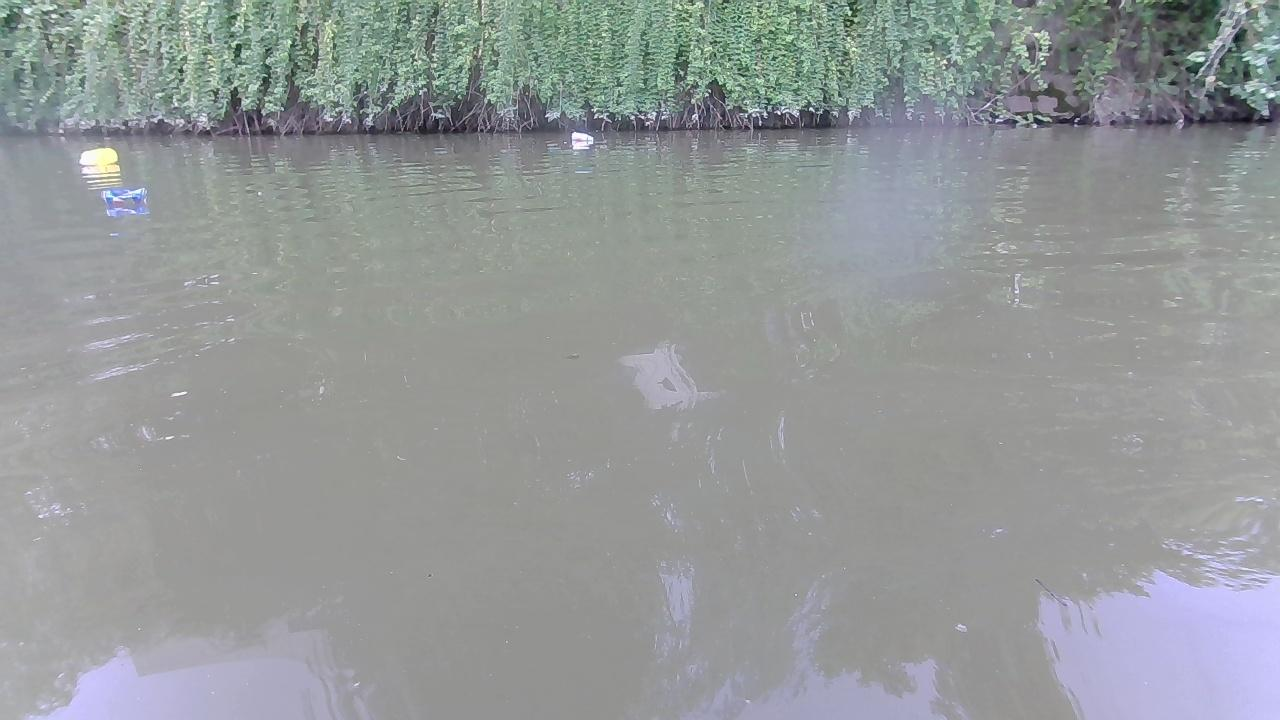bottle: (77, 146, 118, 166), (99, 186, 146, 201), (569, 132, 594, 146)
